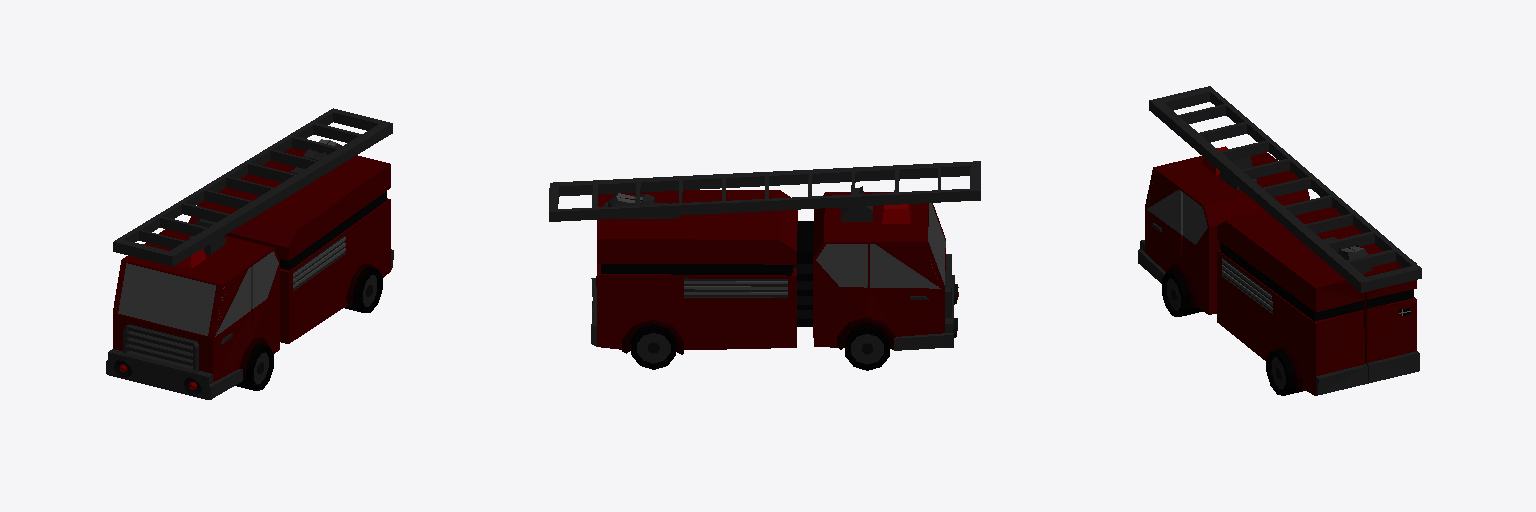
The model's file is firetruck.obj.
3 renders of one model, left to right at view 1: azimuth 30°, elevation 25°; view 2: azimuth 150°, elevation 25°; view 3: azimuth 270°, elevation 25°, orthographic.
Parts seen in each view (by area): view 1: firetruck_mesh_Cube.001, ladder_Plane, tires_back_Cylinder.004, tires_front_Cylinder.002, lamps_Cube.004; view 2: firetruck_mesh_Cube.001, ladder_Plane, tires_front_Cylinder.002, tires_back_Cylinder.004, lamps_Cube.004; view 3: firetruck_mesh_Cube.001, ladder_Plane, tires_front_Cylinder.002, tires_back_Cylinder.004.
Boxes of the visible parts, x1,y1,x2,y2 form: firetruck_mesh_Cube.001: [106, 139, 393, 399]; ladder_Plane: [113, 108, 392, 266]; tires_back_Cylinder.004: [345, 267, 382, 312]; tires_front_Cylinder.002: [235, 344, 273, 390]; lamps_Cube.004: [114, 248, 205, 394]; firetruck_mesh_Cube.001: [591, 186, 954, 354]; ladder_Plane: [549, 161, 980, 221]; tires_front_Cylinder.002: [845, 324, 889, 370]; tires_back_Cylinder.004: [631, 324, 675, 369]; lamps_Cube.004: [882, 204, 958, 337]; firetruck_mesh_Cube.001: [1138, 143, 1419, 395]; ladder_Plane: [1149, 86, 1421, 292]; tires_front_Cylinder.002: [1162, 270, 1202, 316]; tires_back_Cylinder.004: [1266, 350, 1304, 395].
Size of the model in its own units: 2.01 by 0.8994 by 1.39.